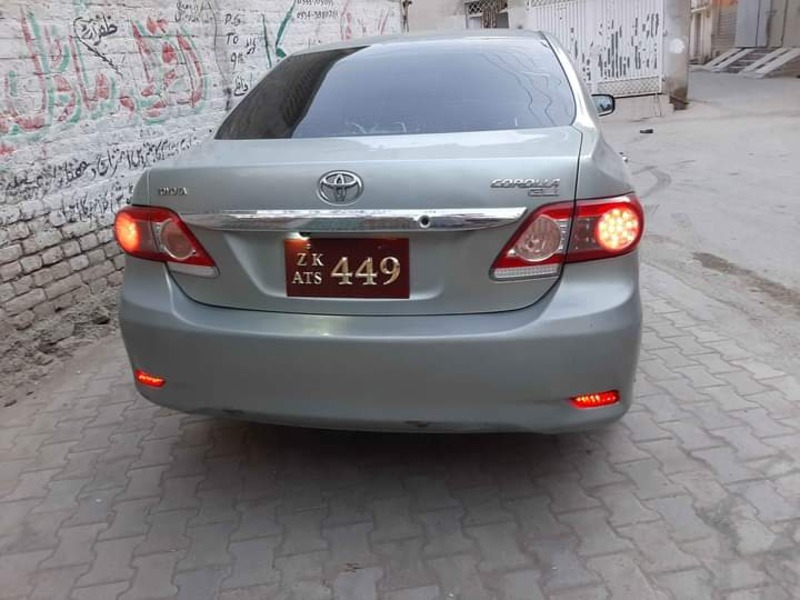License Plate: (280, 235, 418, 302)
